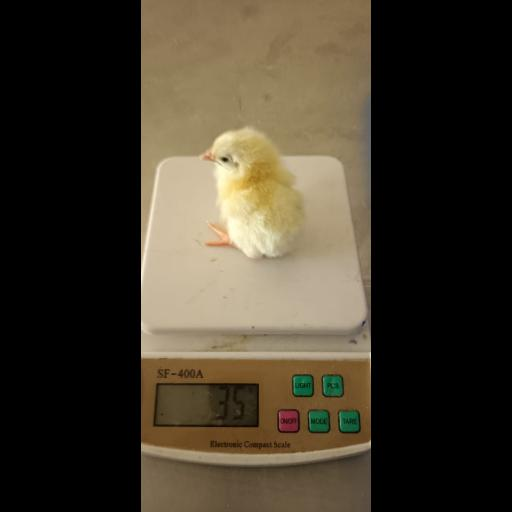chick: (199, 127, 308, 260)
